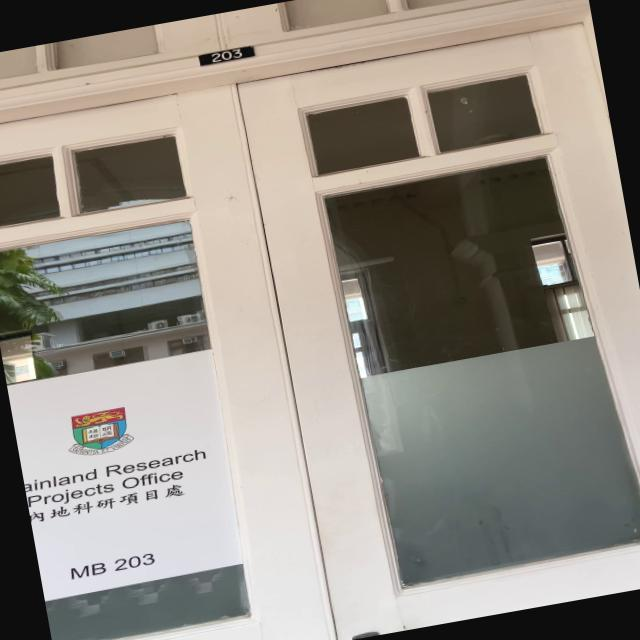room203: (191, 44, 257, 70)
room203Window: (62, 544, 168, 588)
